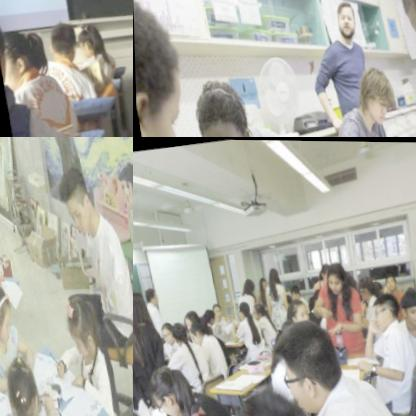head: (272, 318, 345, 416), (187, 76, 264, 137), (52, 157, 96, 238), (350, 56, 398, 130), (0, 26, 46, 93), (0, 352, 45, 416), (59, 288, 99, 359), (233, 387, 317, 416), (145, 365, 188, 416), (44, 18, 79, 62), (71, 20, 104, 61), (367, 292, 397, 332), (330, 0, 359, 41), (0, 276, 14, 341), (397, 289, 416, 328), (320, 263, 343, 294), (353, 272, 375, 301), (133, 285, 147, 326), (186, 316, 207, 342), (155, 317, 173, 347), (285, 297, 307, 320), (167, 317, 186, 342), (178, 308, 196, 330), (284, 281, 302, 303), (263, 263, 280, 284), (234, 298, 249, 320), (382, 272, 397, 293), (201, 305, 214, 327), (247, 300, 261, 320), (239, 276, 253, 295), (142, 285, 156, 303), (209, 299, 221, 319), (255, 274, 269, 291)
